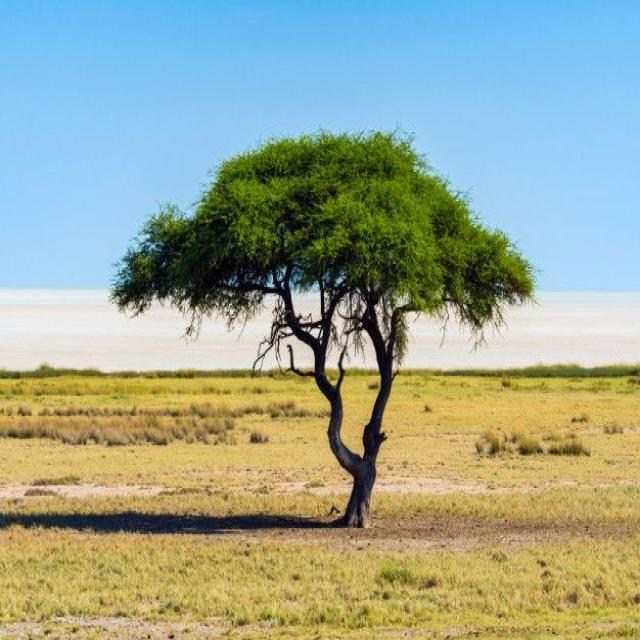Acacia: (127, 122, 531, 514)
